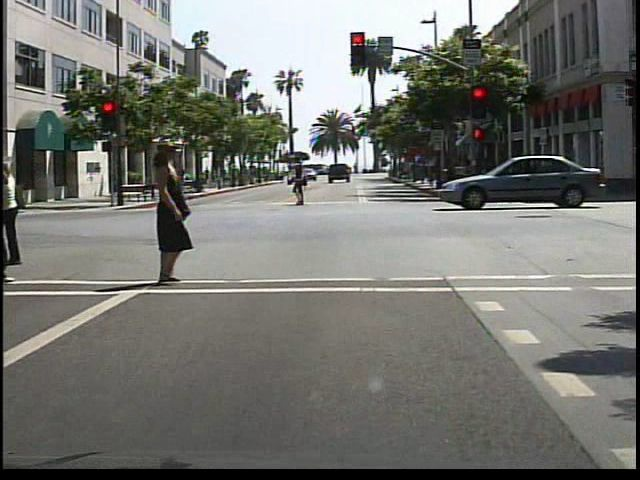person: (135, 137, 209, 282), (8, 161, 40, 271), (1, 145, 12, 291), (288, 158, 317, 207), (175, 164, 188, 188)
